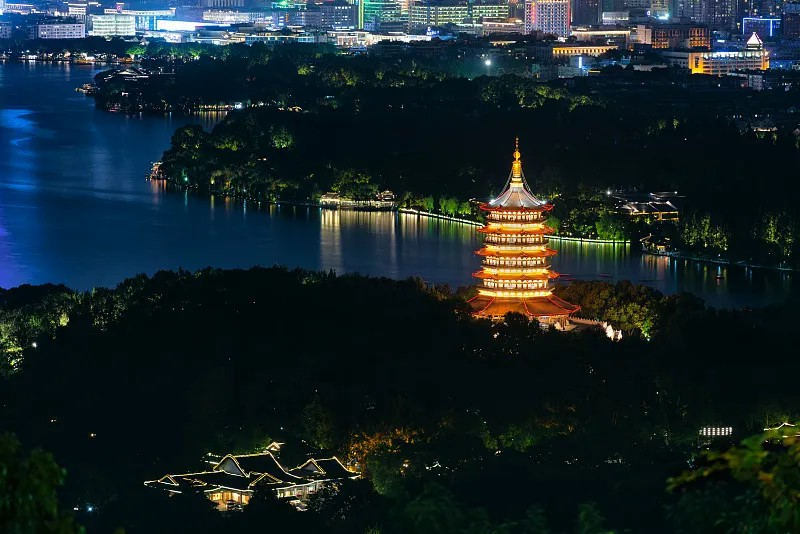Leifeng: (460, 134, 581, 329)
